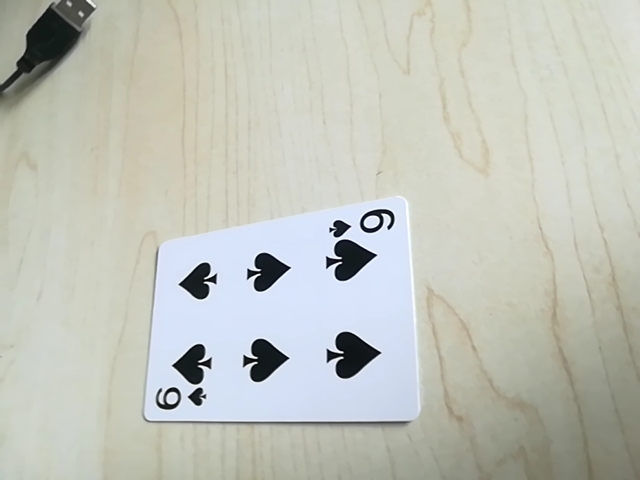ht 6: (327, 205, 400, 239), (149, 382, 209, 416)
